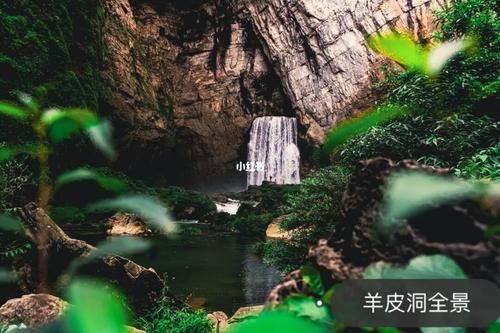mountain: (92, 3, 401, 168)
sea_river: (102, 221, 275, 293)
